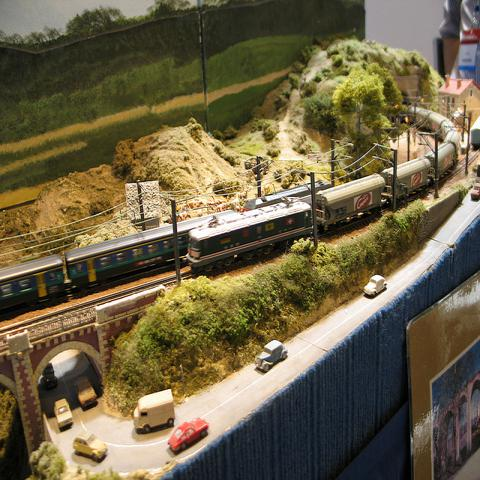car: (167, 417, 209, 451), (254, 340, 288, 373), (73, 434, 109, 463), (74, 375, 97, 407), (52, 398, 74, 430), (362, 274, 388, 297), (39, 360, 57, 388), (470, 181, 480, 201)
truck: (134, 390, 175, 432)
